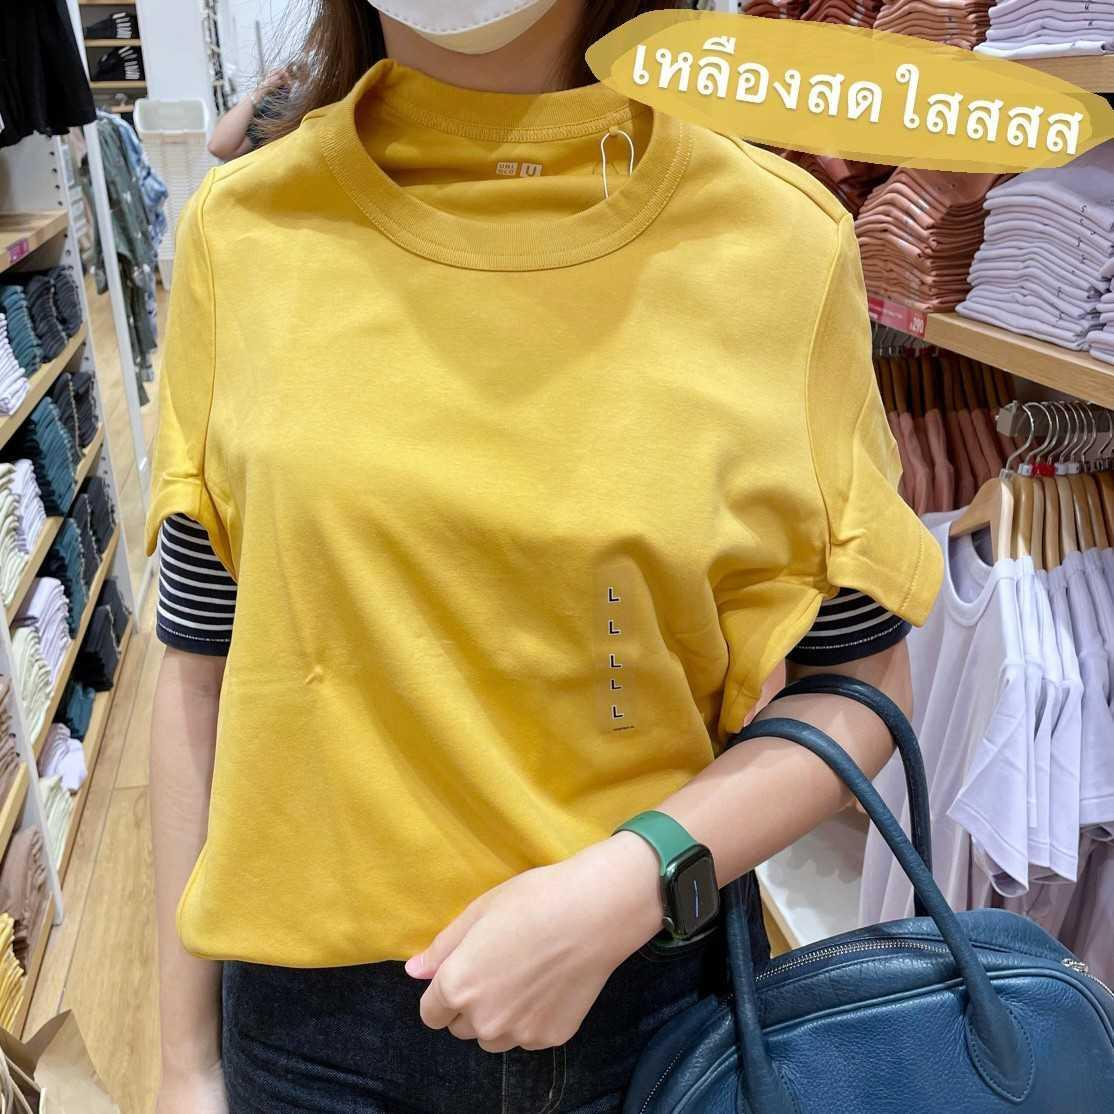Tshirt: (145, 102, 949, 1030)
